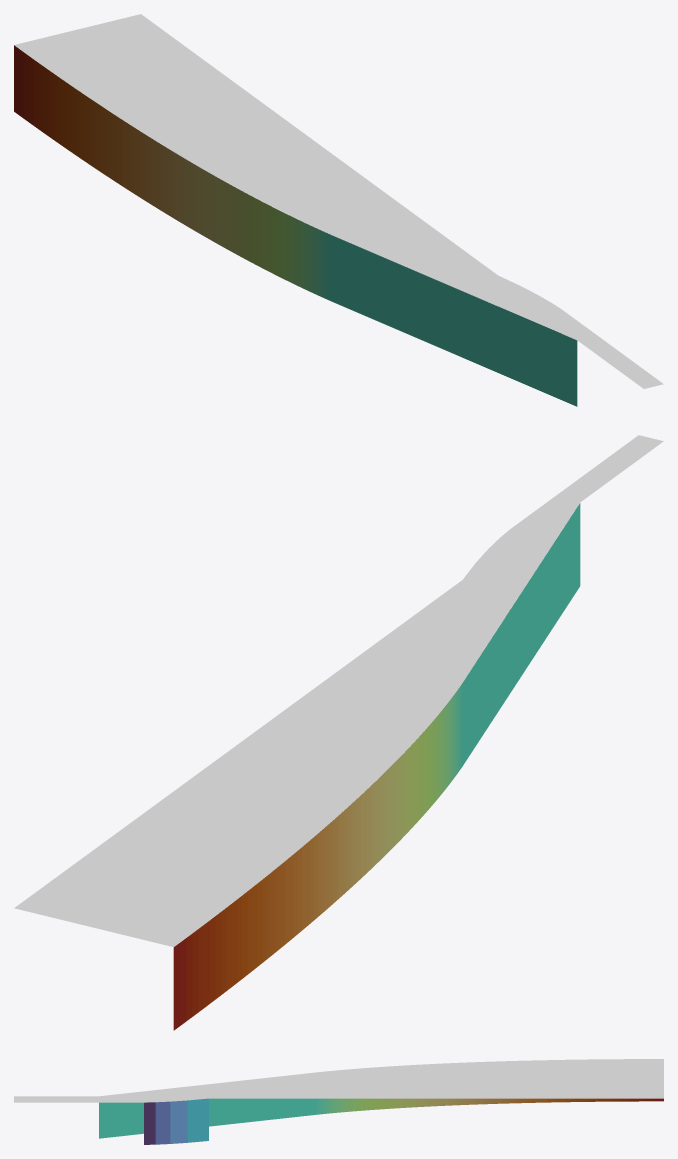
Rendered from scramjet_n100_m5.glb.
3 views of the same model, one above another, from view 1: azimuth 30°, elevation 25°; view 2: azimuth 150°, elevation 25°; view 3: azimuth 270°, elevation 25° (orthographic). The views are drawn at different scales.
Parts seen in each view (by area): view 1: Renderer Node; view 2: Renderer Node; view 3: Renderer Node.
Part boxes in pixels (left/top/right/bottom): Renderer Node: left=14, top=14, right=663, bottom=406; Renderer Node: left=14, top=435, right=663, bottom=1030; Renderer Node: left=14, top=1059, right=663, bottom=1144.
Size of the model in its own units: 1.1 by 0.5006 by 6.95.
